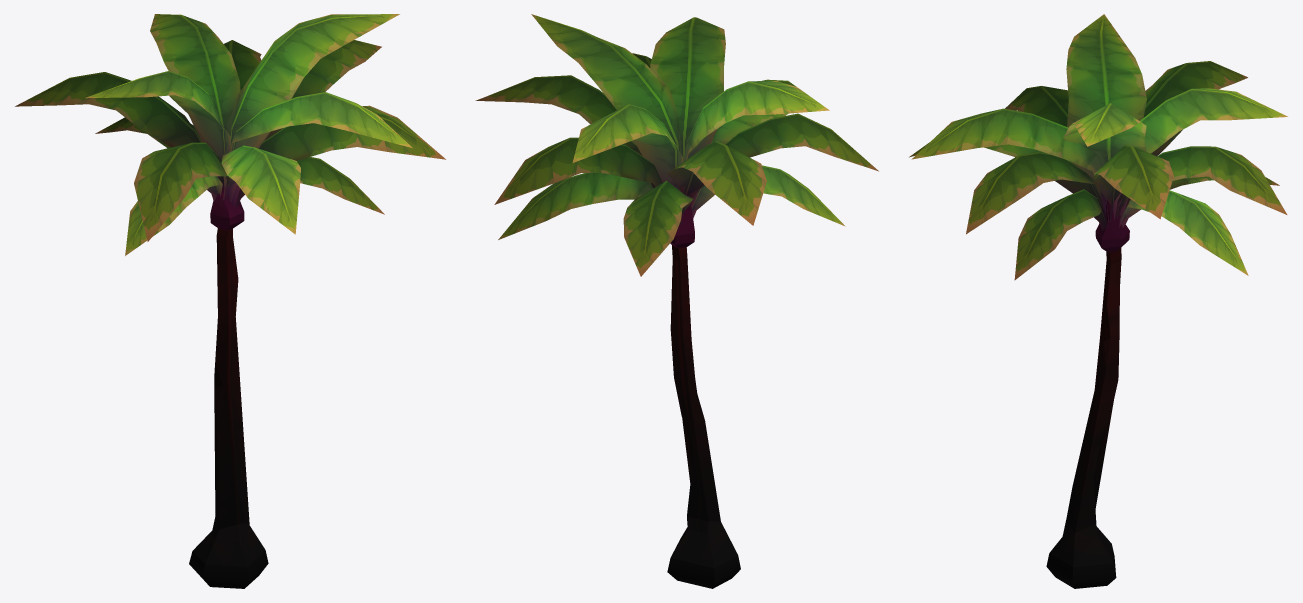
File: SM_Env_Tree_Banana_03.gltf
3 renders of one model, left to right at view 1: azimuth 30°, elevation 25°; view 2: azimuth 150°, elevation 25°; view 3: azimuth 270°, elevation 25°, orthographic.
Parts seen in each view (by area): view 1: SM_Env_Tree_Banana_03_LOD0; view 2: SM_Env_Tree_Banana_03_LOD0; view 3: SM_Env_Tree_Banana_03_LOD0.
Boxes of the visible parts, x1,y1,x2,y2 form: SM_Env_Tree_Banana_03_LOD0: (15, 14, 445, 588); SM_Env_Tree_Banana_03_LOD0: (475, 14, 878, 588); SM_Env_Tree_Banana_03_LOD0: (909, 14, 1287, 588).
Size of what is drawn, in the model's own units: 4.94 by 7.69 by 5.06.
Materials: 1 (1 with a texture image).
